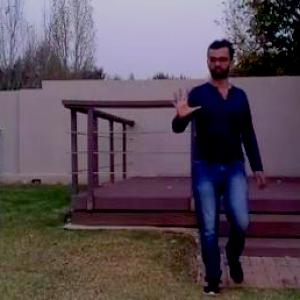follow_hand: (168, 85, 204, 123)
